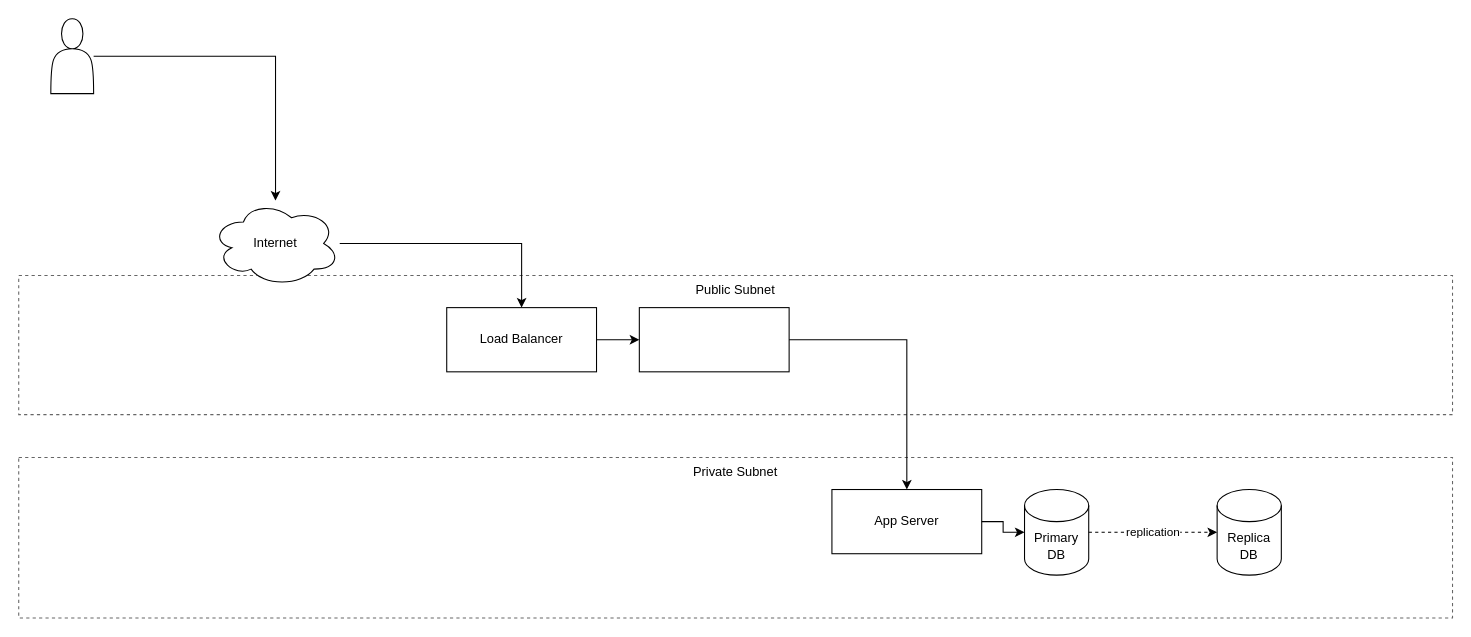
This 1471x637 diagram has some shape labels left out. The box of each missing label's shape, as (x1, y1, x2, y2) in pixels:
End User: (50, 18, 94, 94)
Reverse Proxy: (638, 307, 789, 372)
